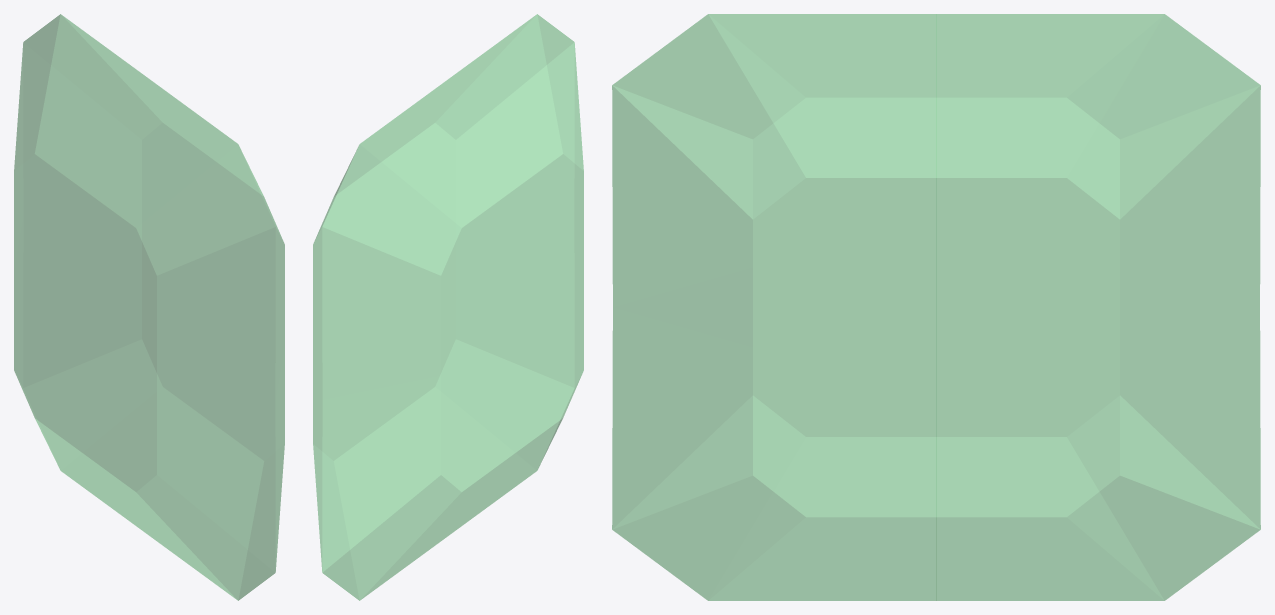
File: Emerald.gltf
3 renders of one model, left to right at view 1: azimuth 30°, elevation 25°; view 2: azimuth 150°, elevation 25°; view 3: azimuth 270°, elevation 25°, orthographic. The views are drawn at different scales.
Visible parts, largest first — view 1: Emerald; view 2: Emerald; view 3: Emerald.
Part boxes in pixels (box(x1,y1,x2,y2)): Emerald: box(14, 14, 284, 600); Emerald: box(313, 14, 583, 600); Emerald: box(612, 14, 1260, 600).
Size of the model in its own units: 0.7407 by 2.53 by 2.53.
